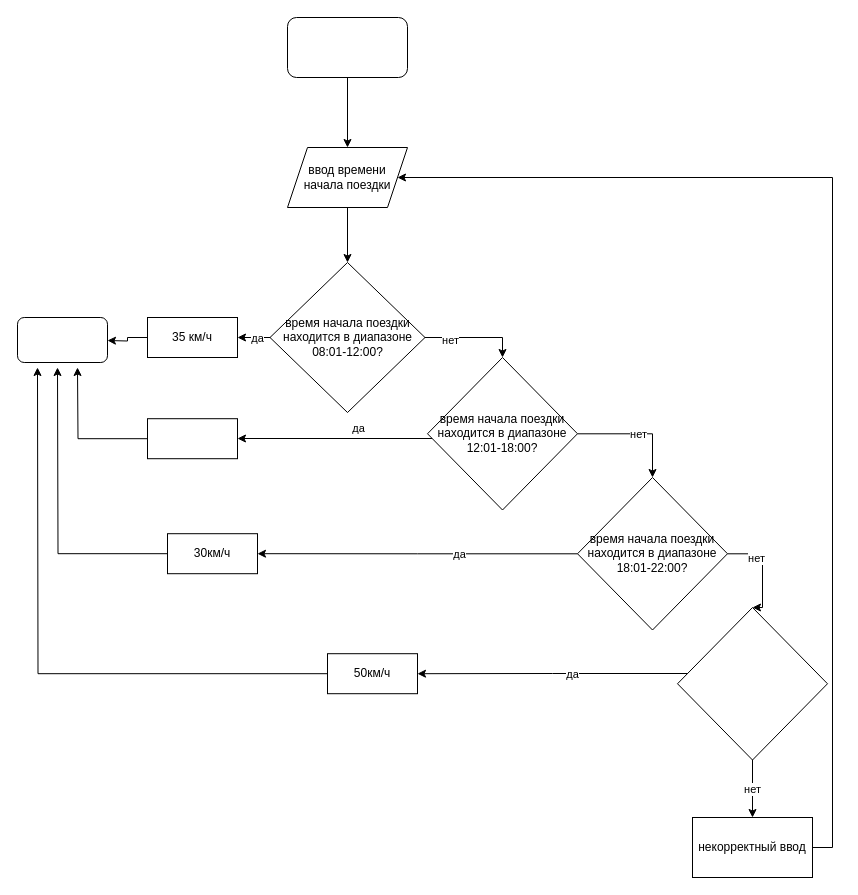
Image size: 858x895. Some labels were removed from this diagram. Here are the shapes that lost their labels. From the top down, the centre of each, then its label:
At [347,47]: "начало".
At [62,339]: "конец".
At [192,438]: "42 км/ч".
At [752,683]: "время начала поездки находится в диапазоне 22:01-08:00?".
